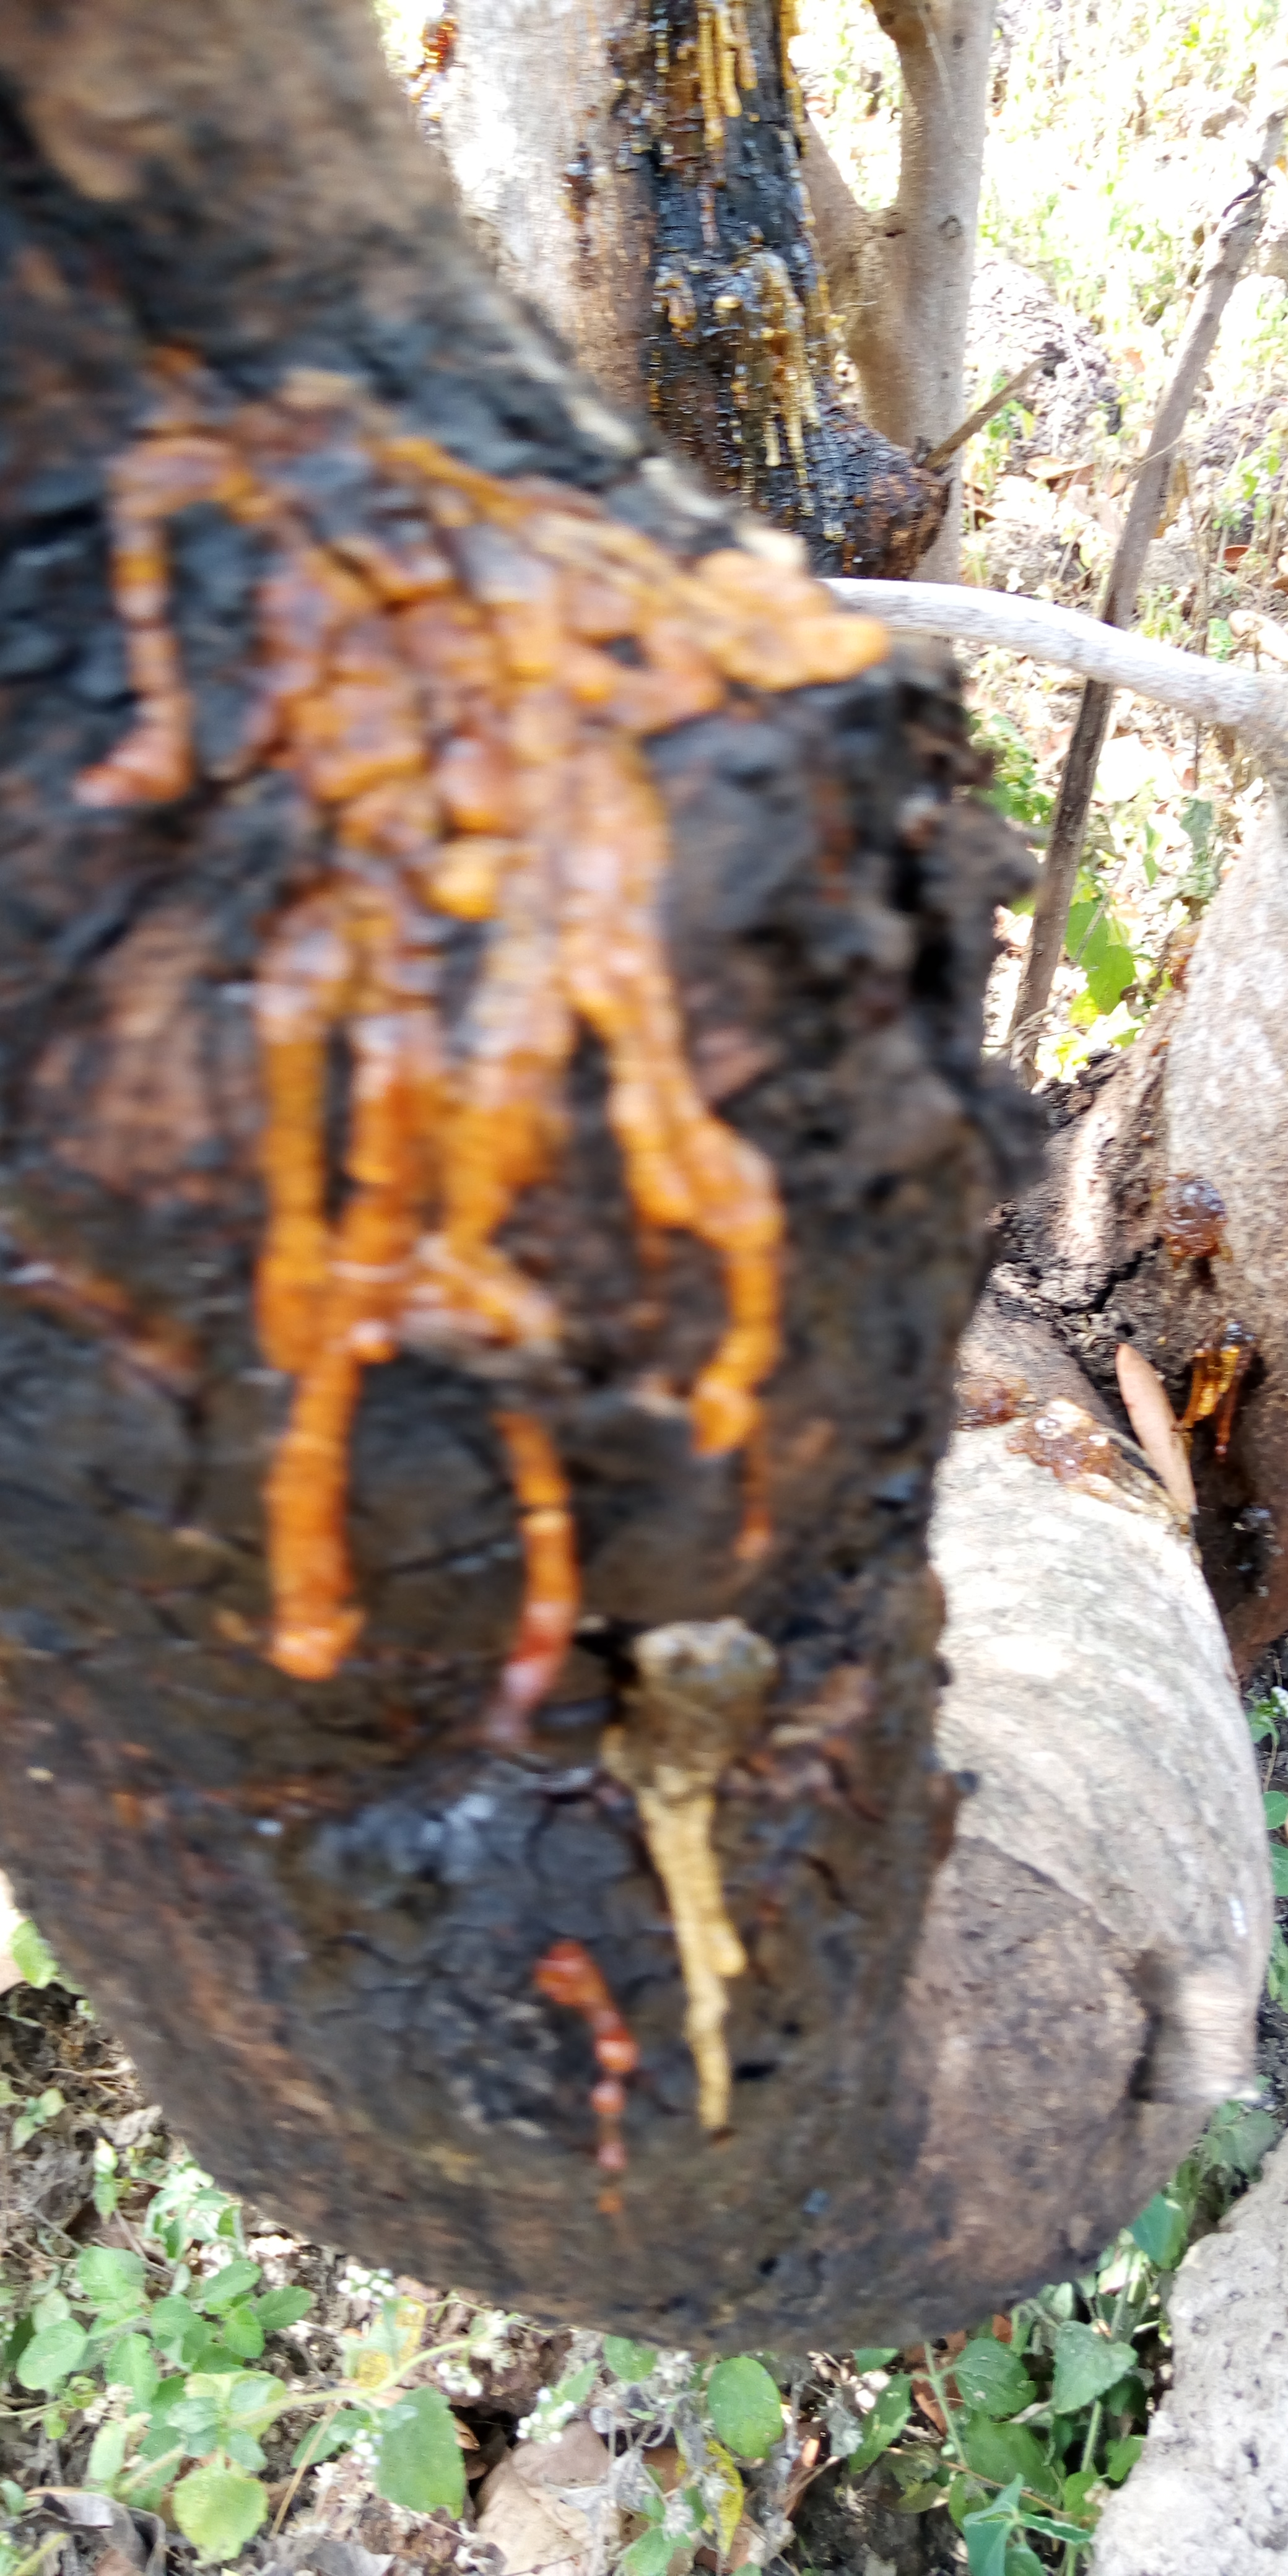Gommose: (71, 399, 1002, 2126), (631, 13, 933, 524)
